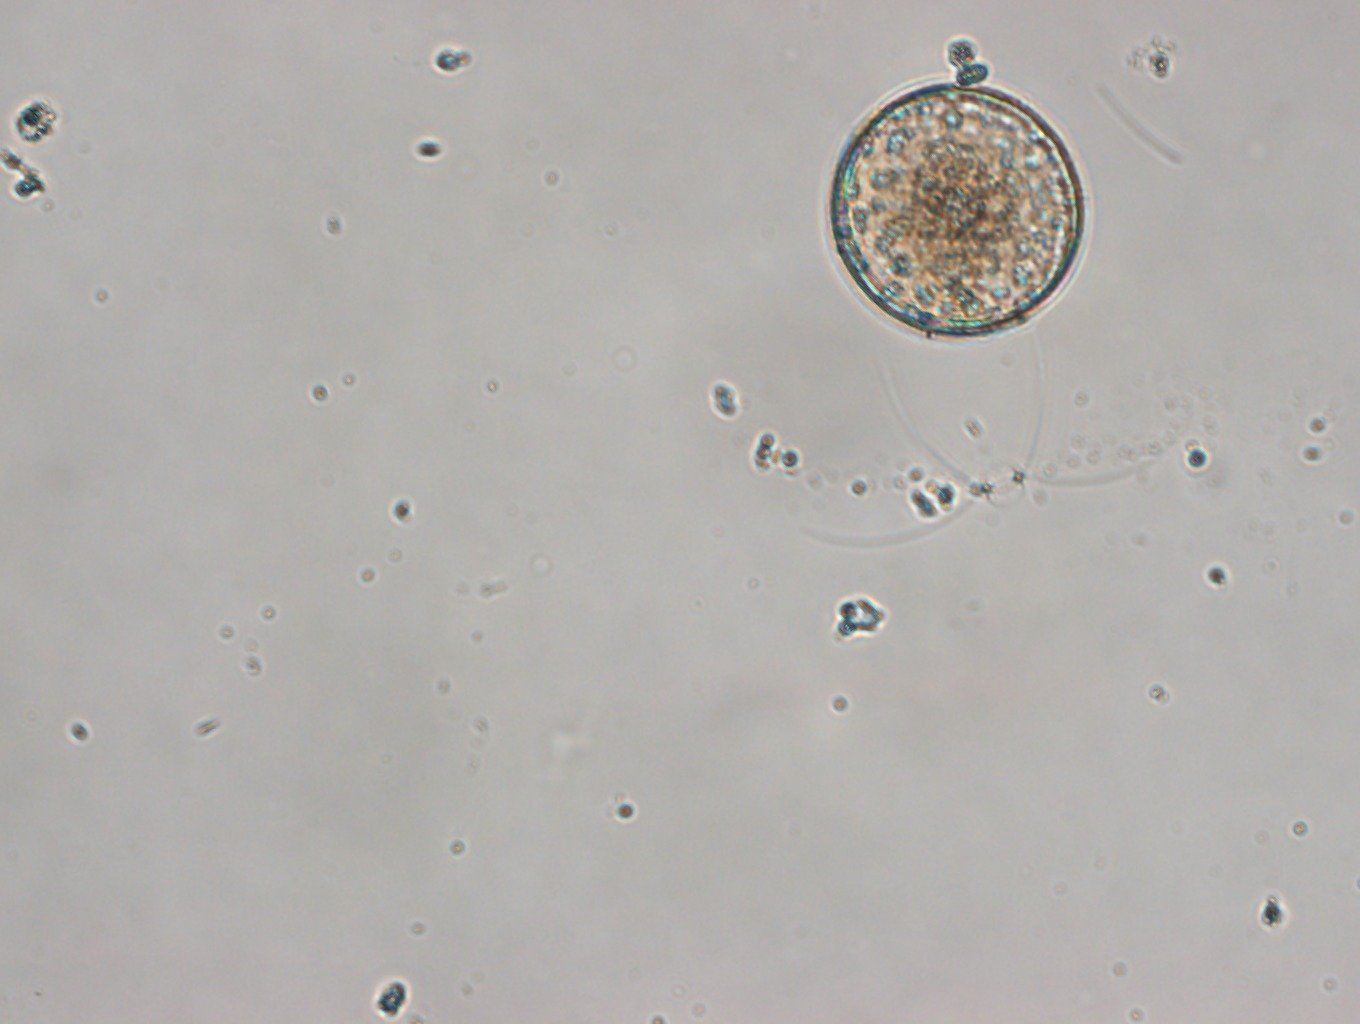coscinodiscus: (820, 83, 1088, 344)
